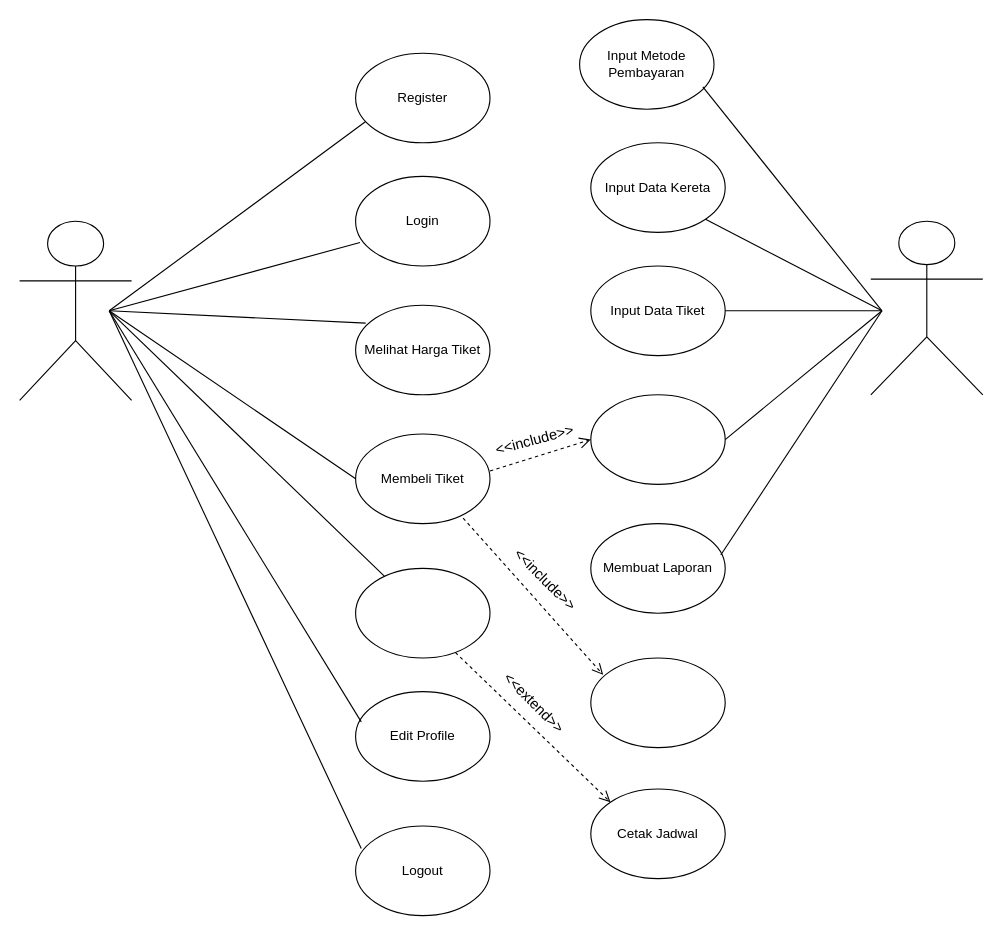
Some shapes in this 1002 by 935 pixel diagram are drawn without their labels. The shapes that lost their labels are listed below. From the top down, each one's box as (x1, y1, x2, y2) in pixels, then its label:
(18, 220, 132, 400): Customer
(870, 220, 983, 395): Admin
(590, 394, 725, 484): Cetak Pembelian Tiket
(354, 567, 490, 658): Melihat Jadwal
(590, 657, 725, 748): Membatalkan Pembelian
